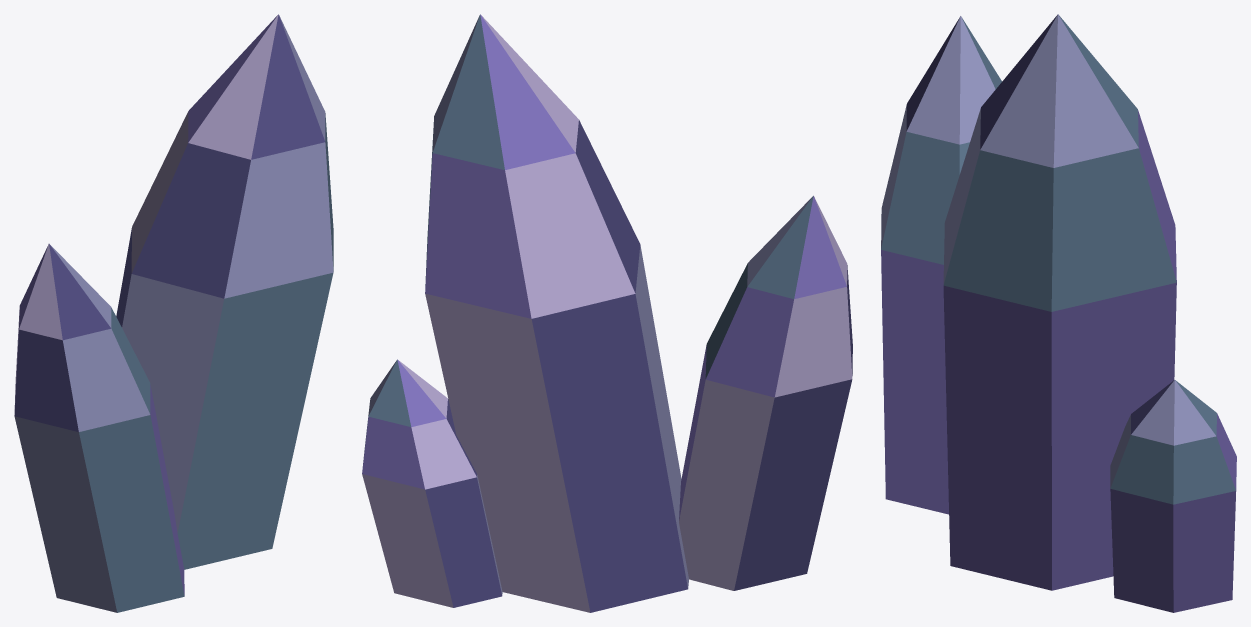
Rendered from violet-crystals.glb.
The picture shows the model from 3 angles, left to right: view 1: azimuth 30°, elevation 25°; view 2: azimuth 150°, elevation 25°; view 3: azimuth 270°, elevation 25°; orthographic projection. The views are drawn at different scales.
Visible parts, largest first — view 1: violet-crystals; view 2: violet-crystals; view 3: violet-crystals.
Part boxes in pixels (x1,y1,x2,y2): violet-crystals: (14,14,333,612); violet-crystals: (362,14,852,612); violet-crystals: (881,14,1236,612).
Size of the model in its own units: 2.58 by 3.3 by 1.83.
